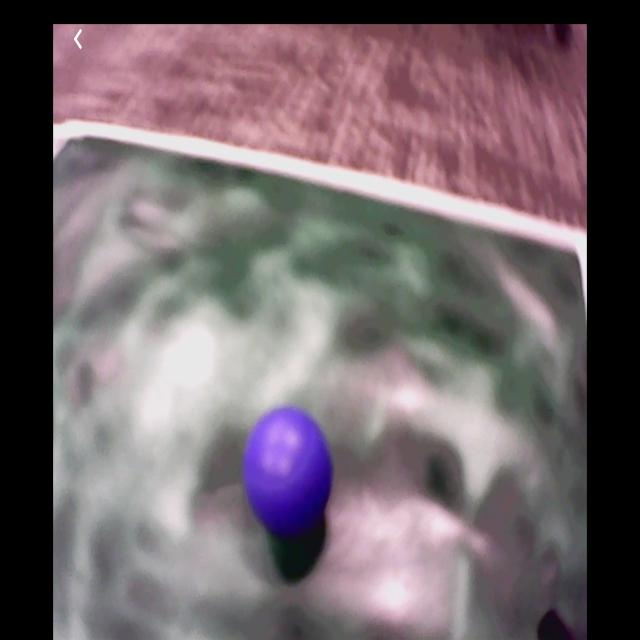ball: (245, 411, 334, 533)
